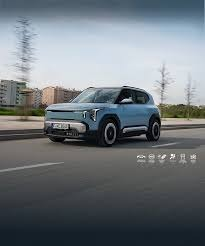car: (46, 84, 162, 146)
